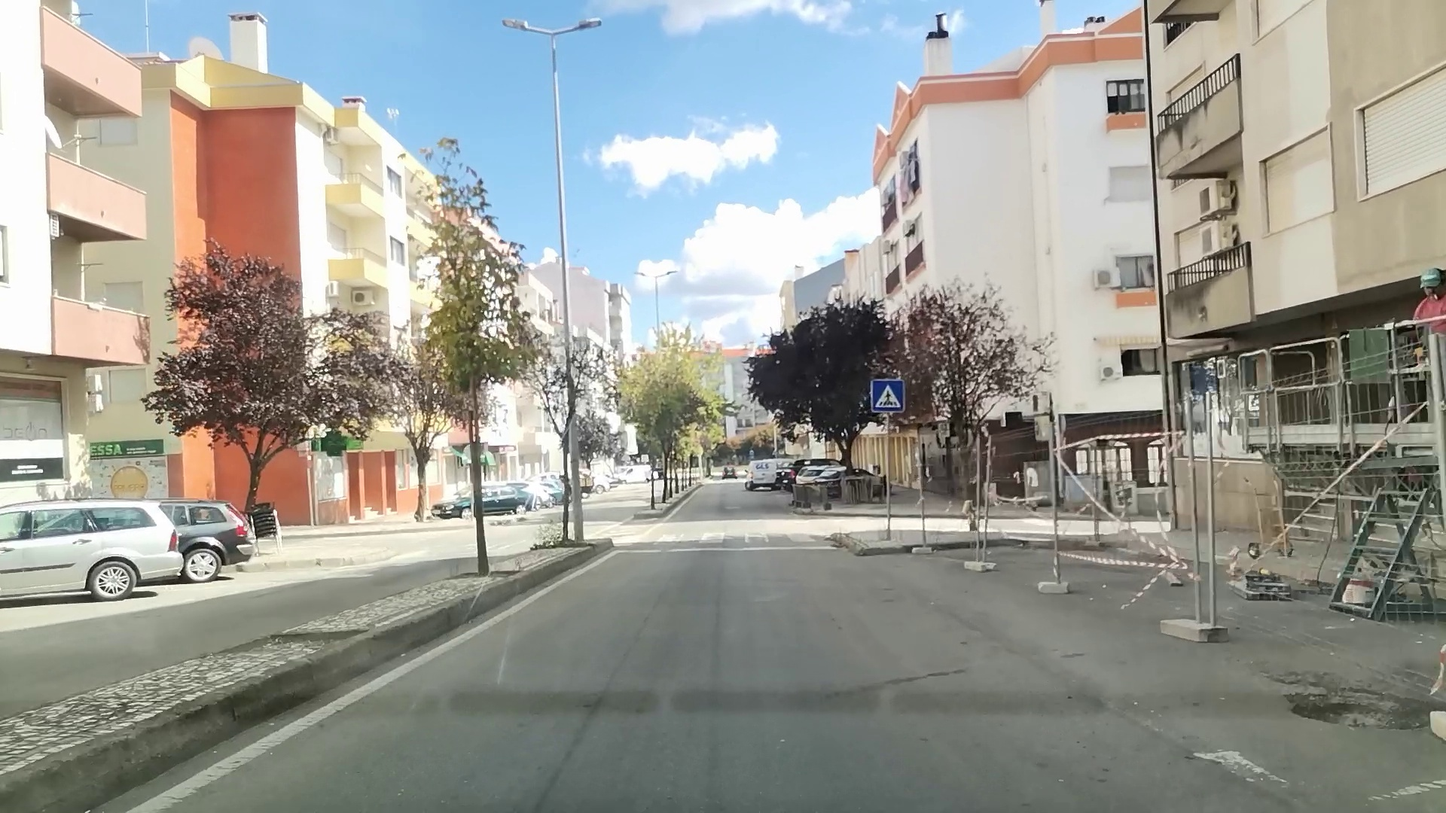Stairs: (643, 528, 822, 550)
